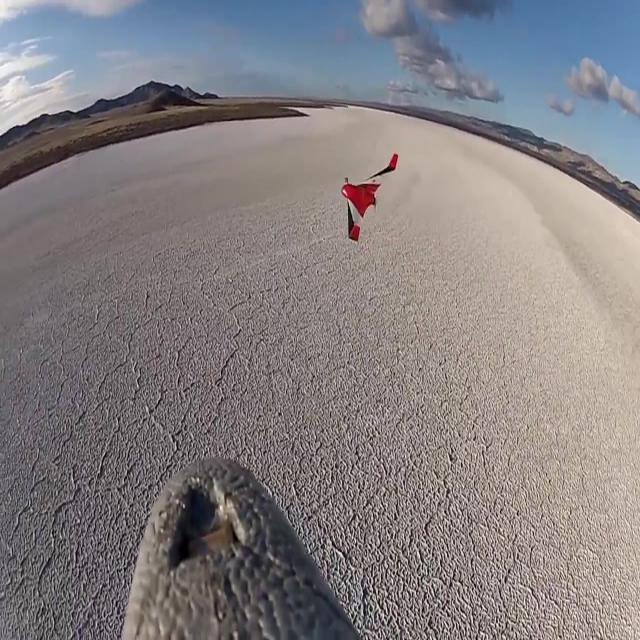iha: (340, 184, 399, 210)
